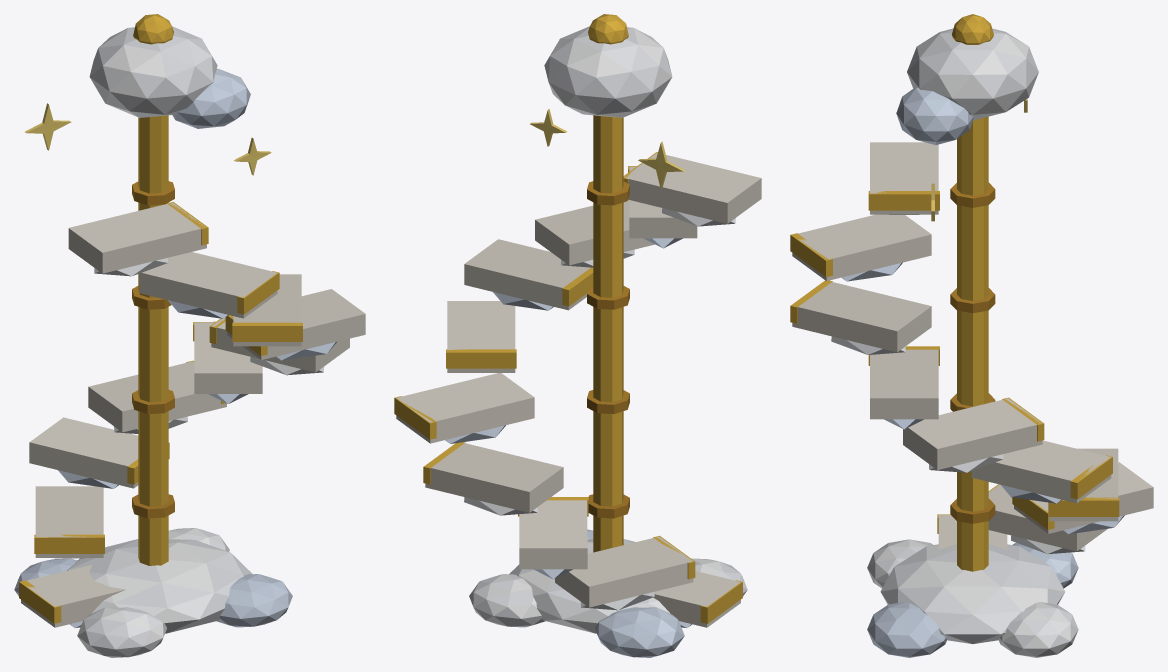
File: Decor_CloudTemple_Stairway.fbx
The picture shows the model from 3 angles, left to right: view 1: azimuth 30°, elevation 25°; view 2: azimuth 150°, elevation 25°; view 3: azimuth 270°, elevation 25°; orthographic projection.
Parts seen in each view (by area): view 1: Stairway_Body; view 2: Stairway_Body; view 3: Stairway_Body.
Part boxes in pixels (x1=…): Stairway_Body: x1=14, y1=14, x2=365, y2=657; Stairway_Body: x1=394, y1=14, x2=761, y2=657; Stairway_Body: x1=790, y1=14, x2=1153, y2=657.
Bounding box in the file's own units: 12.98 × 25.1 × 13.68.
